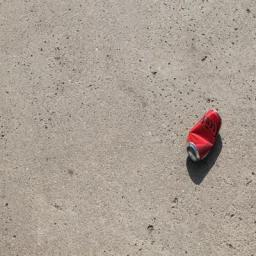FOD: (177, 103, 229, 190)
